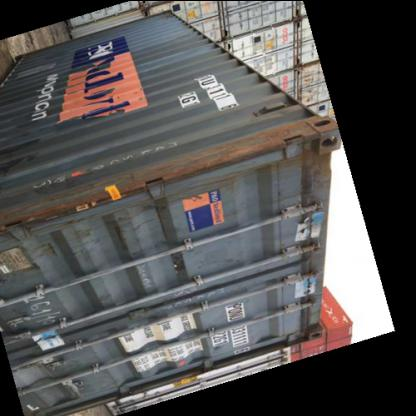Damage: (62, 168, 171, 219), (278, 115, 336, 187), (290, 266, 324, 304), (166, 246, 194, 286), (111, 82, 149, 108), (232, 248, 256, 270)
